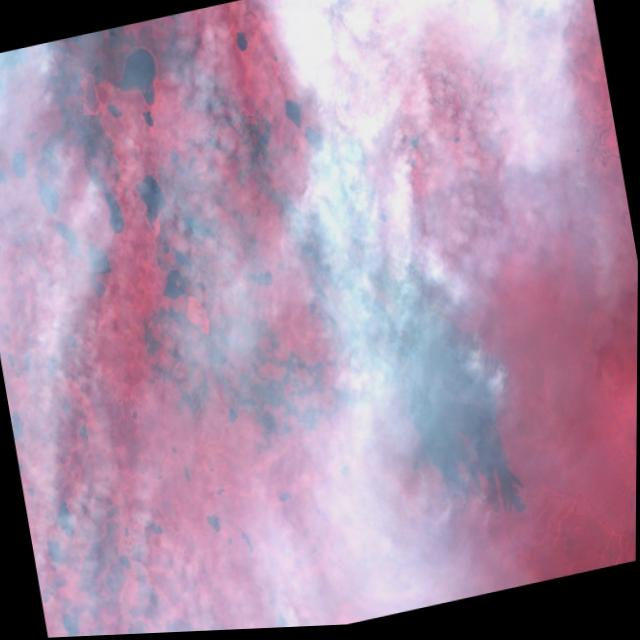fire: (264, 91, 544, 568), (0, 31, 126, 239)
